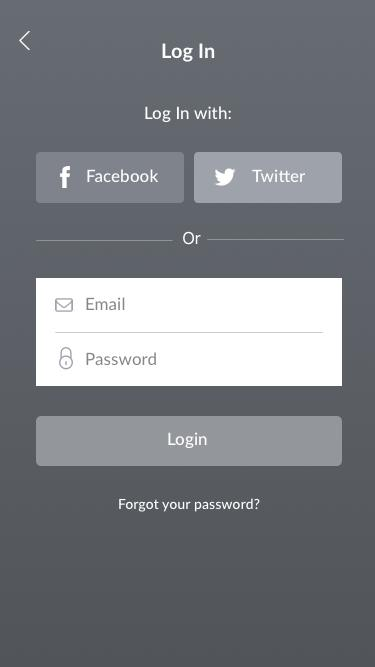EditText: (37, 279, 342, 333), (37, 333, 342, 387)
Icon: (60, 348, 74, 371), (56, 299, 74, 313), (19, 31, 31, 51)
Text: (144, 107, 232, 124), (162, 43, 216, 63), (87, 353, 157, 366), (87, 298, 126, 311), (183, 232, 202, 246)
TextButton: (36, 416, 343, 467), (37, 152, 185, 204), (194, 152, 342, 204), (118, 498, 260, 513)
